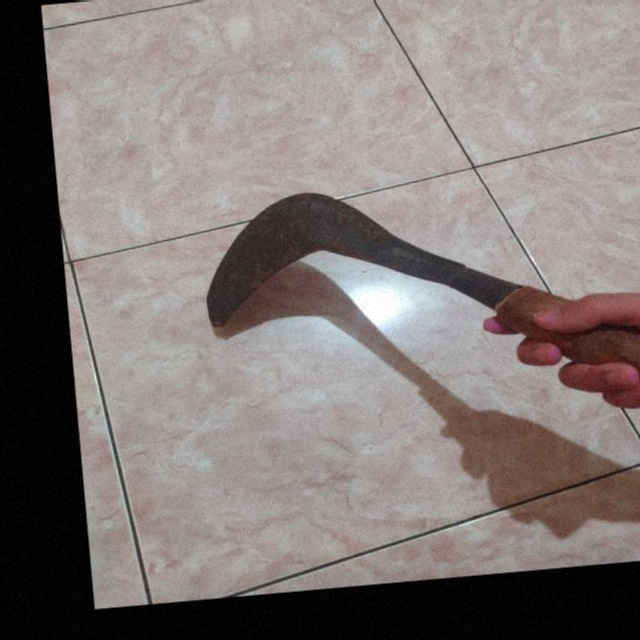Sharp-Object: (186, 148, 640, 483)
